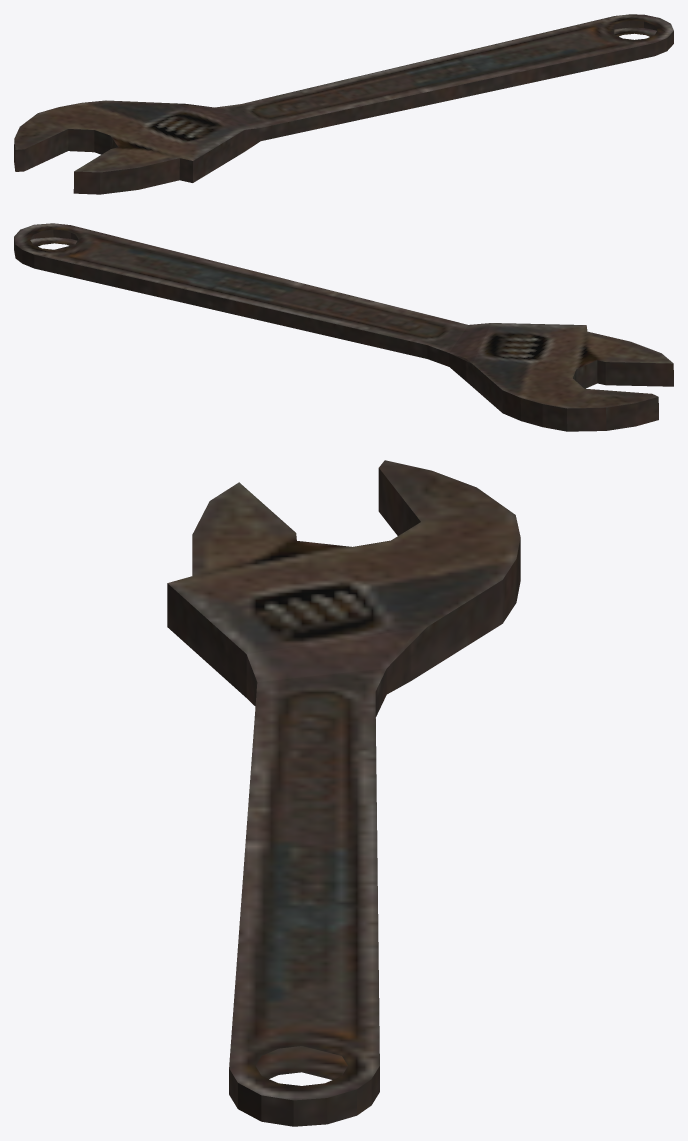
The model's file is wrench_mx_2.dae.
3 views of the same model, one above another, from view 1: azimuth 30°, elevation 25°; view 2: azimuth 150°, elevation 25°; view 3: azimuth 270°, elevation 25° (orthographic). The views are drawn at different scales.
Parts seen in each view (by area): view 1: wrench_mx_2; view 2: wrench_mx_2; view 3: wrench_mx_2.
Part boxes in pixels (bbox=[...]): wrench_mx_2: bbox=[14, 14, 673, 194]; wrench_mx_2: bbox=[14, 223, 673, 431]; wrench_mx_2: bbox=[167, 460, 520, 1126].
Size of the model in its own units: 0.5994 by 0.1449 by 0.0223.
1 material, 1 textured.
